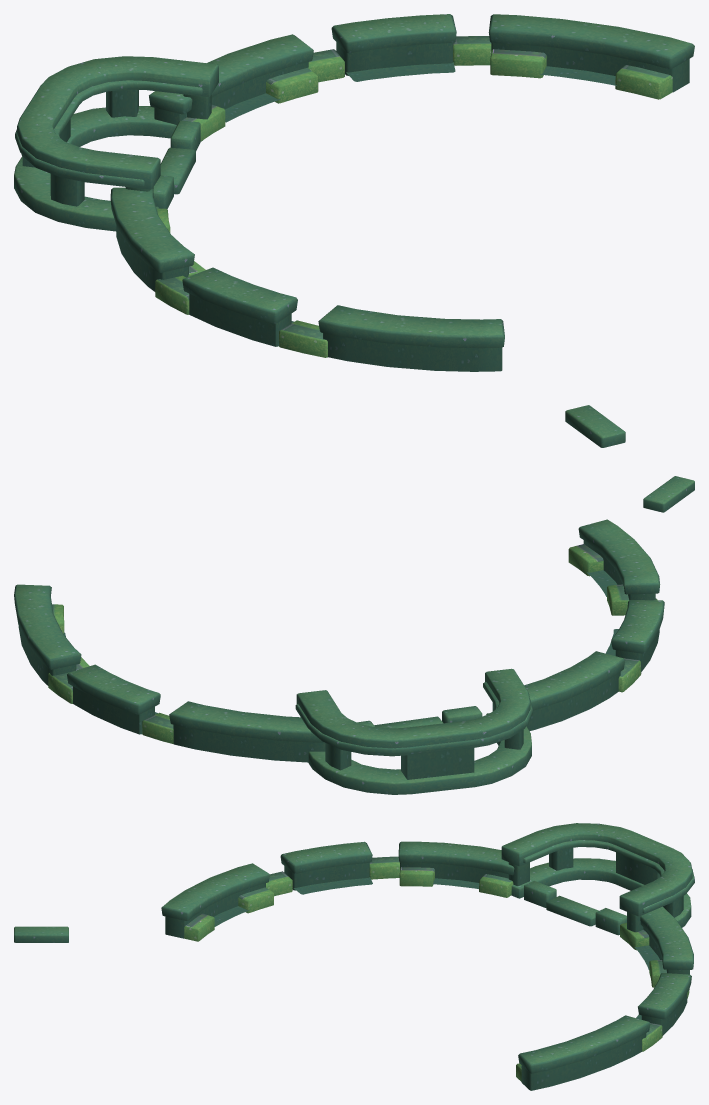
File: pref_sm_garden_bush_vertexcolor_02_lv0.fbx
The picture shows the model from 3 angles, top to bottom: view 1: azimuth 30°, elevation 25°; view 2: azimuth 150°, elevation 25°; view 3: azimuth 270°, elevation 25°; orthographic projection. The views are drawn at different scales.
Visible parts, largest first — view 1: pref_sm_garden_bush_vertexcolor_02_lv0; view 2: pref_sm_garden_bush_vertexcolor_02_lv0; view 3: pref_sm_garden_bush_vertexcolor_02_lv0.
Part boxes in pixels (box(x1,y1,x2,y2)): pref_sm_garden_bush_vertexcolor_02_lv0: box(14, 14, 694, 447); pref_sm_garden_bush_vertexcolor_02_lv0: box(14, 476, 694, 794); pref_sm_garden_bush_vertexcolor_02_lv0: box(14, 823, 694, 1090).
Bounding box in the file's own units: 43.24 × 4.11 × 55.13.
